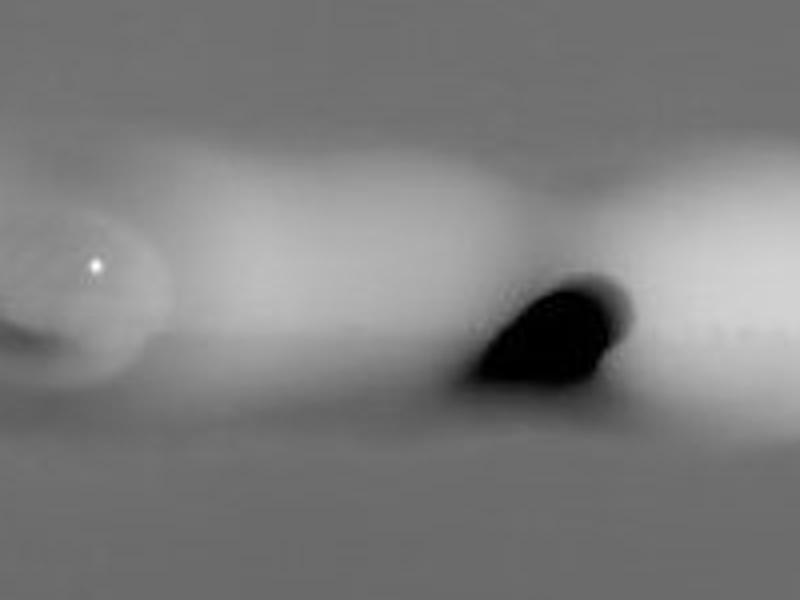defect: (467, 278, 617, 383)
